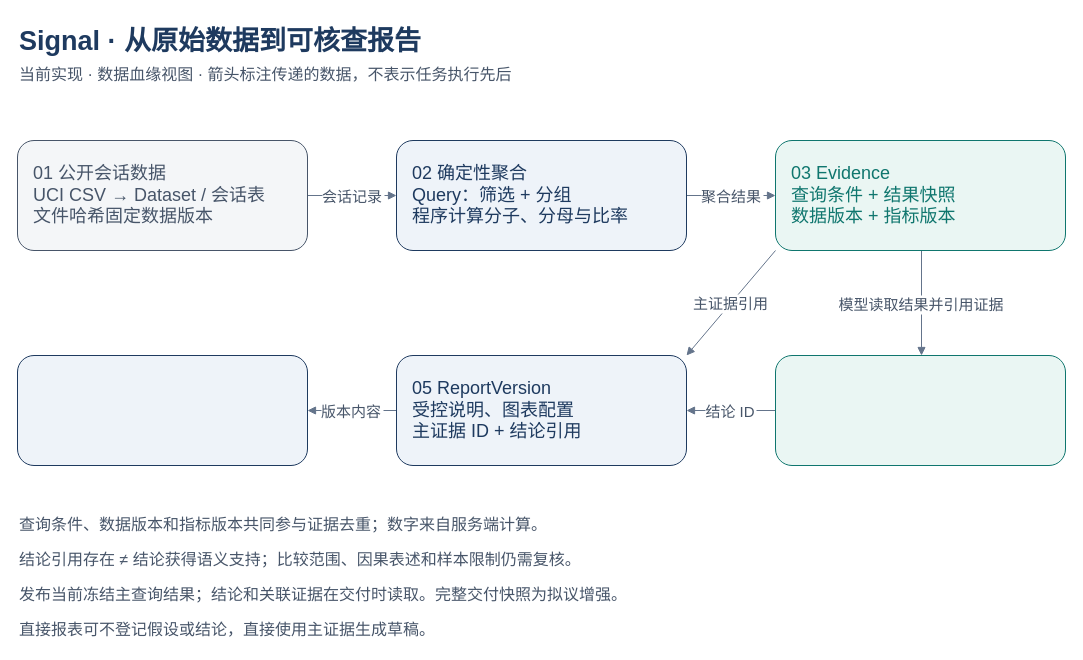
The diagram is 1083 pixels wide and 660 high, and some of its shapes have lost their labels. The box of each missing label's shape, as (x1, y1, x2, y2) in pixels:
04 Claim / Hypothesis 结论、限制及证据 ID 研究假设与验证状态: (774, 354, 1066, 466)
06 发布与导出 人工确认指定版本 HTML 报告 / CSV 数据: (16, 354, 308, 466)
